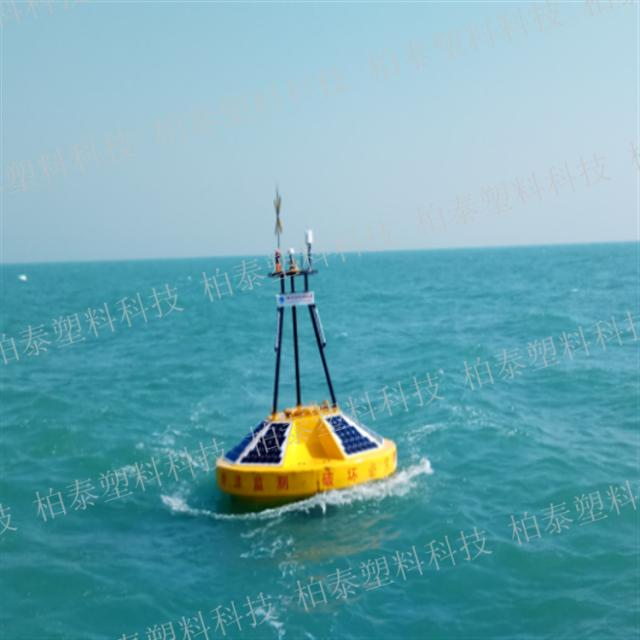buoy: (206, 182, 405, 498)
